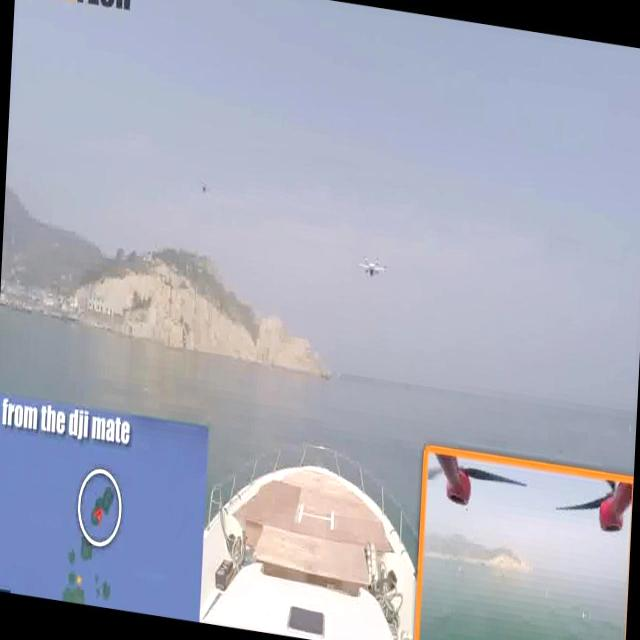drone: (350, 245, 392, 290)
